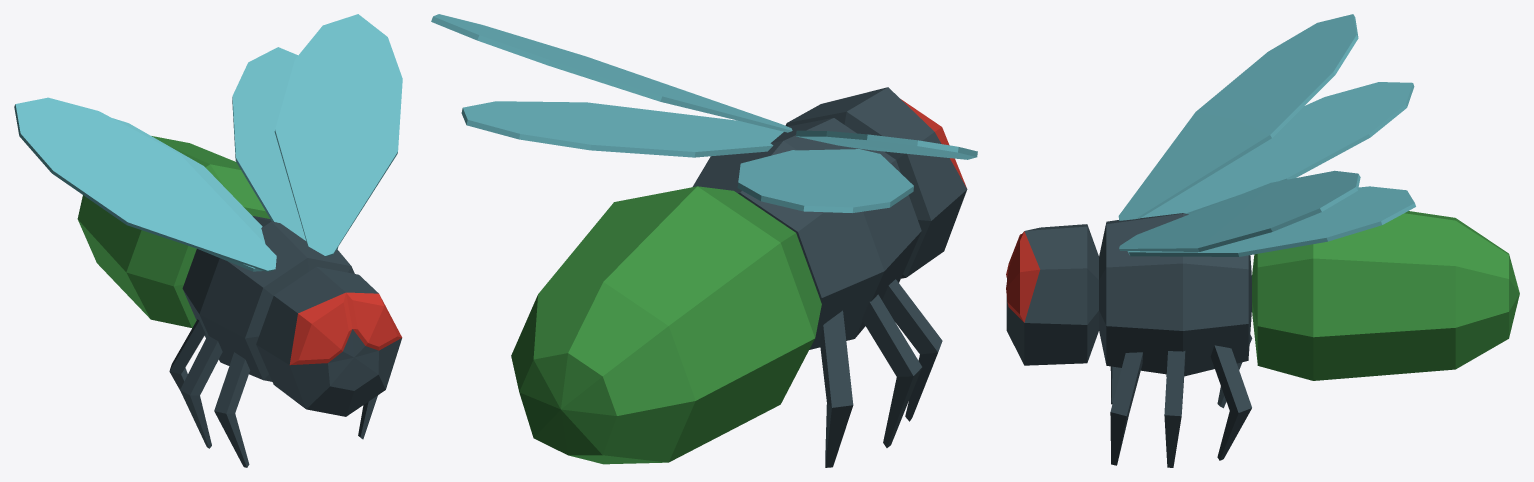
Rendered from Fly_01.fbx.
3 renders of one model, left to right at view 1: azimuth 30°, elevation 25°; view 2: azimuth 150°, elevation 25°; view 3: azimuth 270°, elevation 25°, orthographic. The views are drawn at different scales.
Visible parts, largest first — view 1: Fly_01; view 2: Fly_01; view 3: Fly_01.
Boxes of the visible parts, x1,y1,x2,y2 form: Fly_01: (14,14,402,467); Fly_01: (431,14,977,467); Fly_01: (1006,14,1519,467).
Size of the model in its own units: 3.14 by 2.56 by 3.55.
